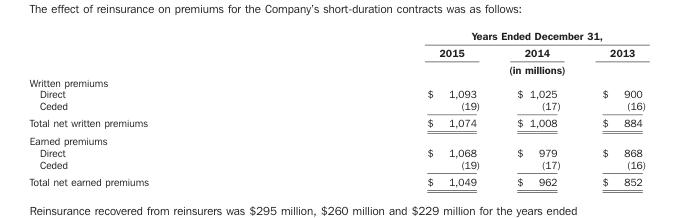table: (28, 29, 645, 186)
table column: (28, 29, 287, 186), (287, 29, 497, 186), (497, 29, 580, 186), (580, 29, 645, 186)
table column header: (28, 29, 645, 75)
table projected row header: (28, 131, 645, 146), (28, 75, 645, 87)
table row: (28, 113, 645, 131), (28, 43, 645, 60), (28, 60, 645, 75), (28, 131, 645, 146), (28, 29, 645, 43), (28, 99, 645, 113), (28, 158, 645, 172), (28, 172, 645, 186), (28, 75, 645, 87), (28, 87, 645, 99), (28, 146, 645, 158)
table spanning cell: (287, 60, 645, 75), (287, 29, 645, 43)
